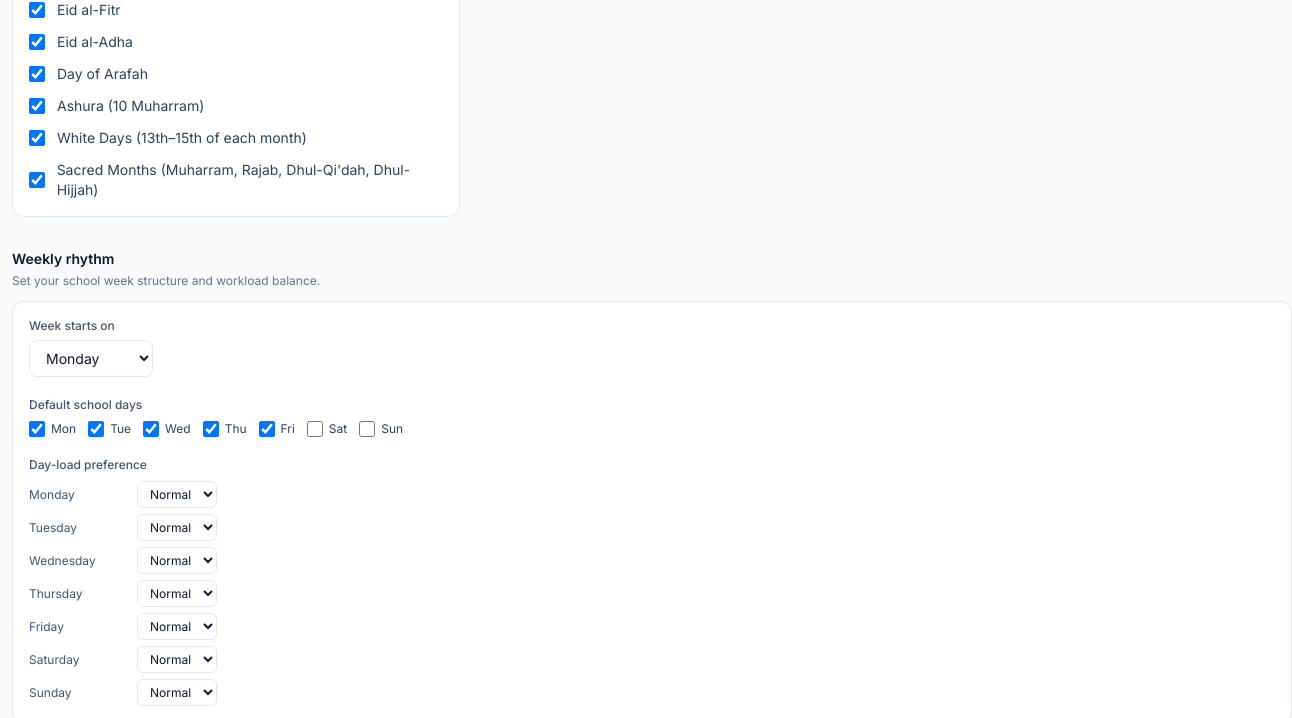
HouseholdSettings — save › shows success message after save
(page scrolled)
Step 1. Select "Sunday" in the dropdown labelled "Week starts on" → x=91, y=358, box [29,340,153,377]
(page scrolled)
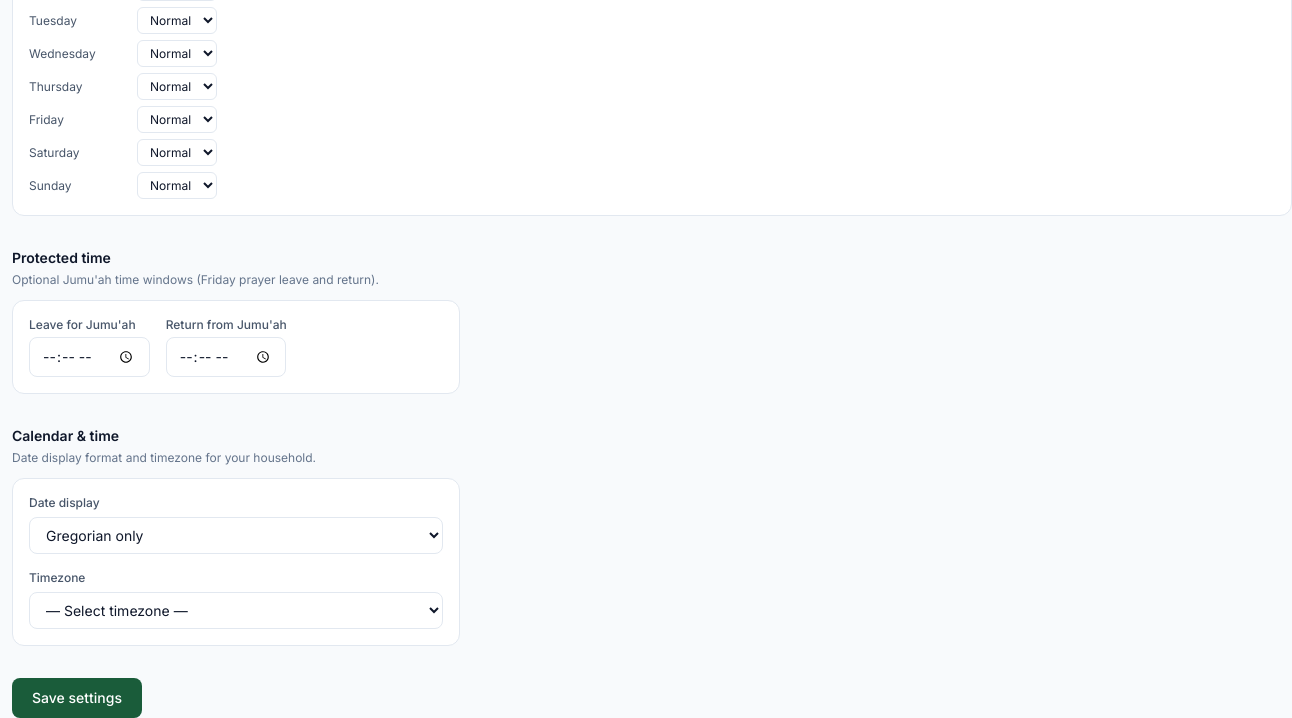
Step 2. Click the button "Save settings" → x=77, y=698, box [12,678,142,717]
(page scrolled)
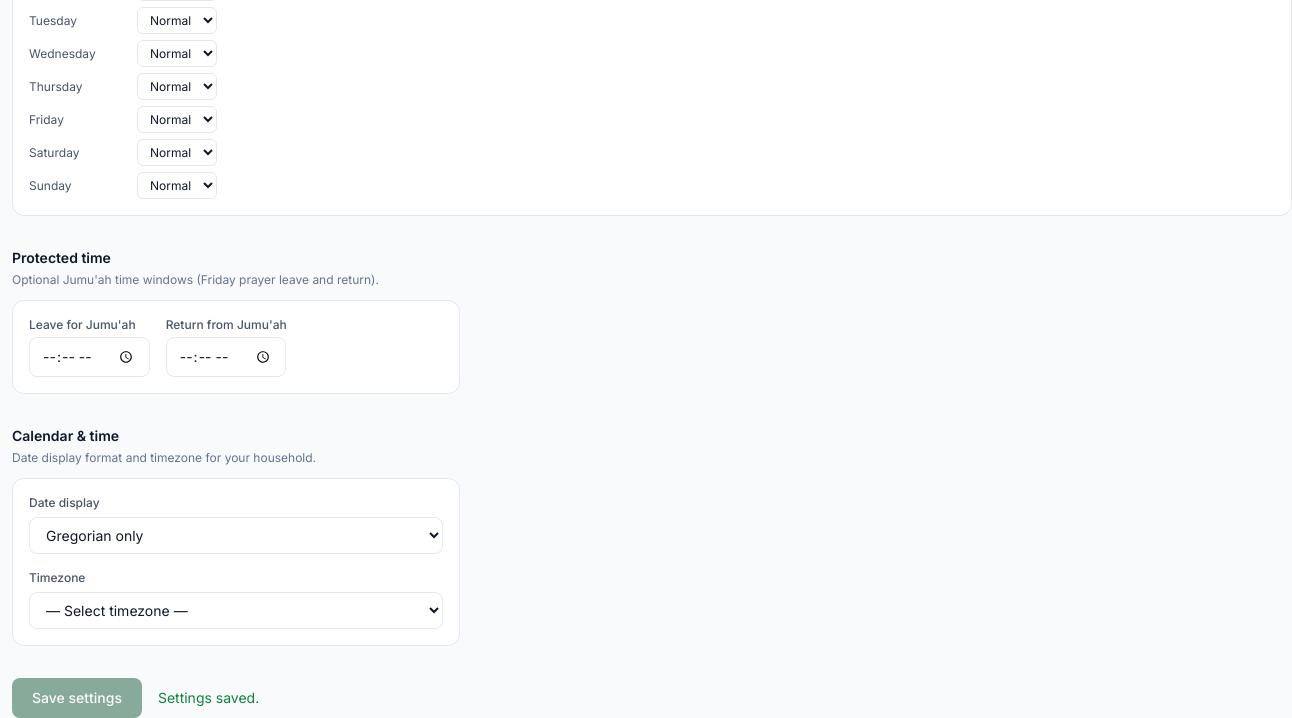
Expected: the text "Settings saved." is shown, [158,688,259,708]
